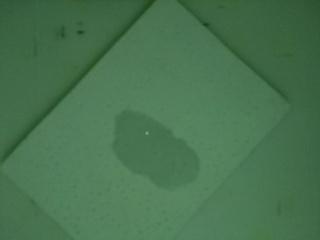Water_detected: (129, 128, 189, 187)
